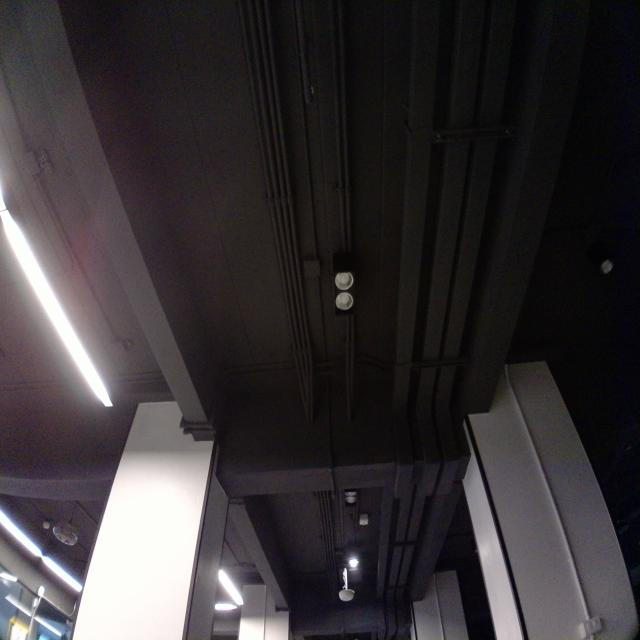lamp1_off: (324, 246, 366, 330)
